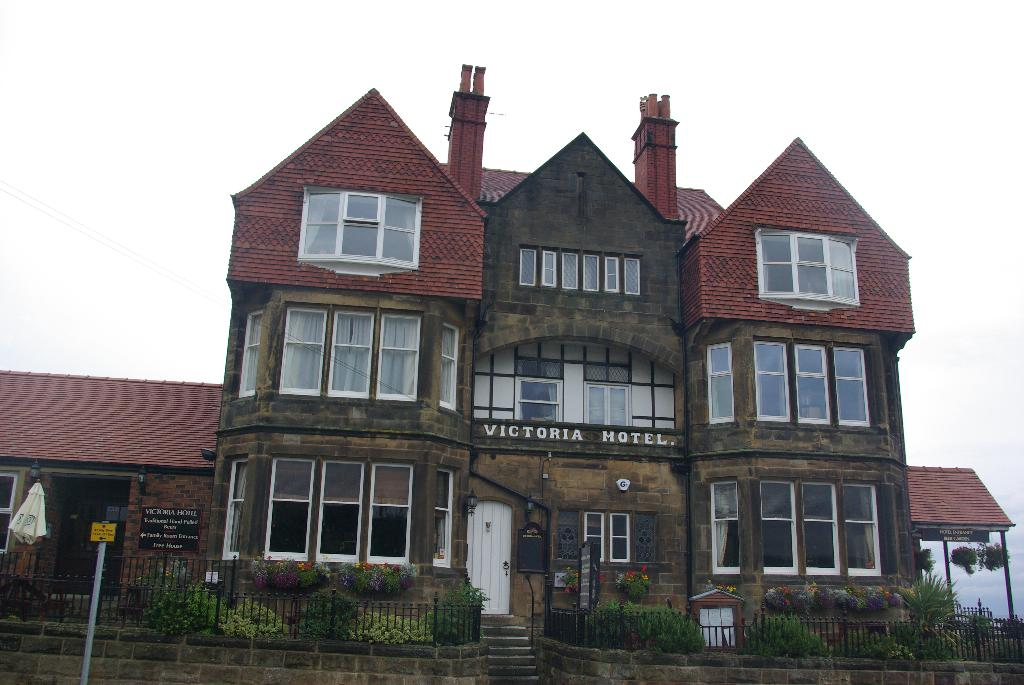Window: (270, 300, 454, 404), (291, 177, 429, 281), (741, 217, 868, 326), (513, 236, 646, 298), (754, 471, 801, 579), (700, 471, 745, 580), (214, 443, 253, 567), (797, 479, 844, 580), (748, 331, 795, 427), (792, 337, 834, 429), (578, 504, 639, 567), (229, 302, 266, 405), (834, 338, 874, 433), (701, 335, 740, 430), (428, 458, 460, 569), (845, 475, 879, 576)
